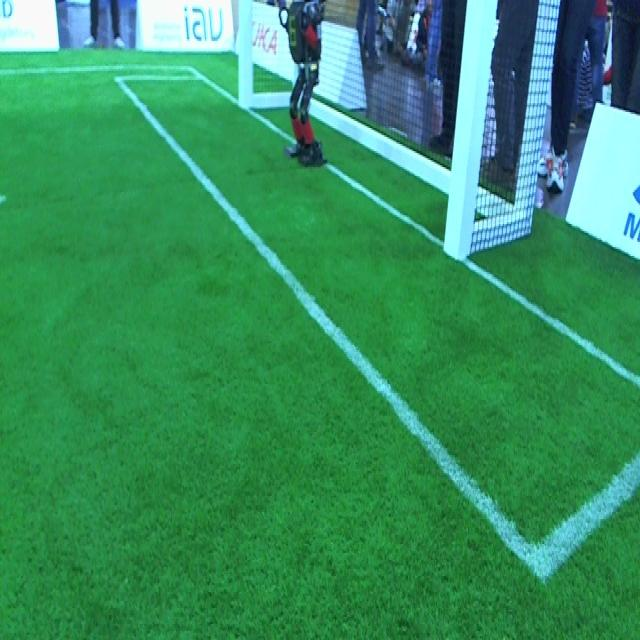goalpost: (443, 4, 494, 258), (237, 0, 253, 110)
